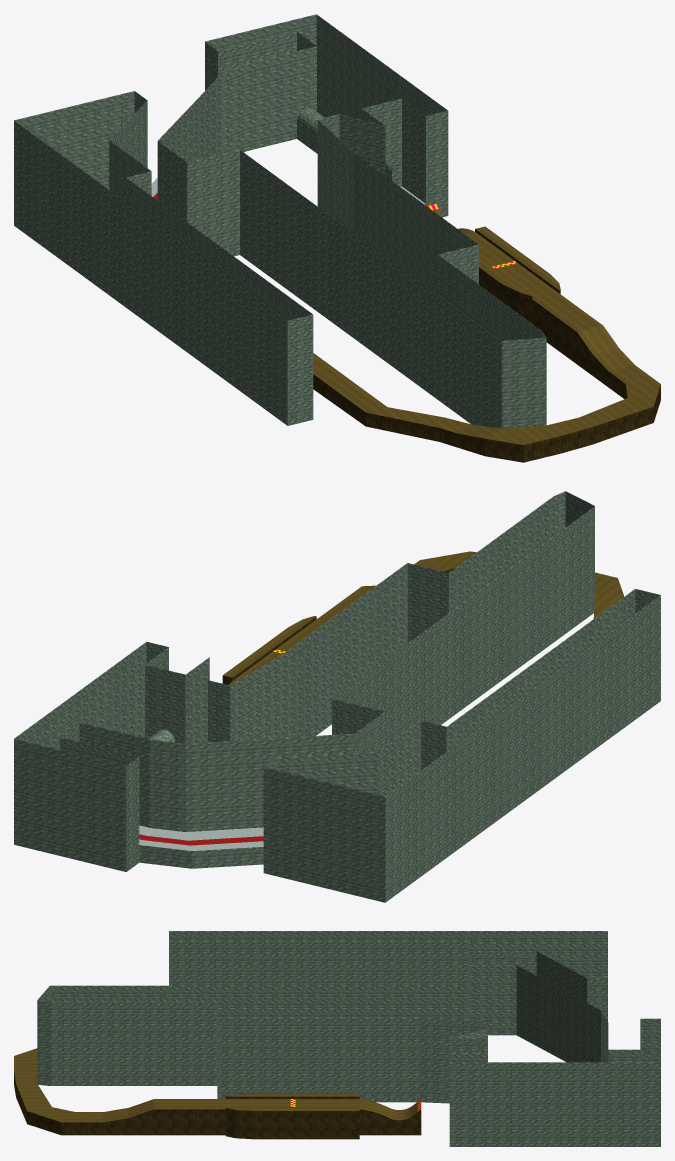
3 views of the same model, one above another, from view 1: azimuth 30°, elevation 25°; view 2: azimuth 150°, elevation 25°; view 3: azimuth 270°, elevation 25° (orthographic). The views are drawn at different scales.
Parts seen in each view (by area): view 1: Koopa_Paratroopa_Castle_v7_SKP__wall1, Koopa_Paratroopa_Castle_v7_SKP__road02, Koopa_Paratroopa_Castle_v7_SKP__rock; view 2: Koopa_Paratroopa_Castle_v7_SKP__wall1, Koopa_Paratroopa_Castle_v7_SKP__road02, Koopa_Paratroopa_Castle_v7_SKP__road03, Koopa_Paratroopa_Castle_v7_SKP__carpet; view 3: Koopa_Paratroopa_Castle_v7_SKP__wall1, Koopa_Paratroopa_Castle_v7_SKP__rock, Koopa_Paratroopa_Castle_v7_SKP__road02.
Part boxes in pixels (box(x1,y1,x2,y2)): Koopa_Paratroopa_Castle_v7_SKP__wall1: box(14, 14, 546, 428); Koopa_Paratroopa_Castle_v7_SKP__road02: box(313, 209, 660, 444); Koopa_Paratroopa_Castle_v7_SKP__rock: box(313, 229, 660, 462); Koopa_Paratroopa_Castle_v7_SKP__wall1: box(14, 491, 660, 902); Koopa_Paratroopa_Castle_v7_SKP__road02: box(223, 551, 623, 685); Koopa_Paratroopa_Castle_v7_SKP__road03: box(139, 825, 263, 850); Koopa_Paratroopa_Castle_v7_SKP__carpet: box(139, 834, 263, 845); Koopa_Paratroopa_Castle_v7_SKP__wall1: box(37, 931, 660, 1146); Koopa_Paratroopa_Castle_v7_SKP__rock: box(14, 1072, 421, 1139); Koopa_Paratroopa_Castle_v7_SKP__road02: box(14, 1048, 417, 1122).
Size of what is drawn, in the model's own units: 40532 by 12150 by 84362.
8 materials, 8 textured.
